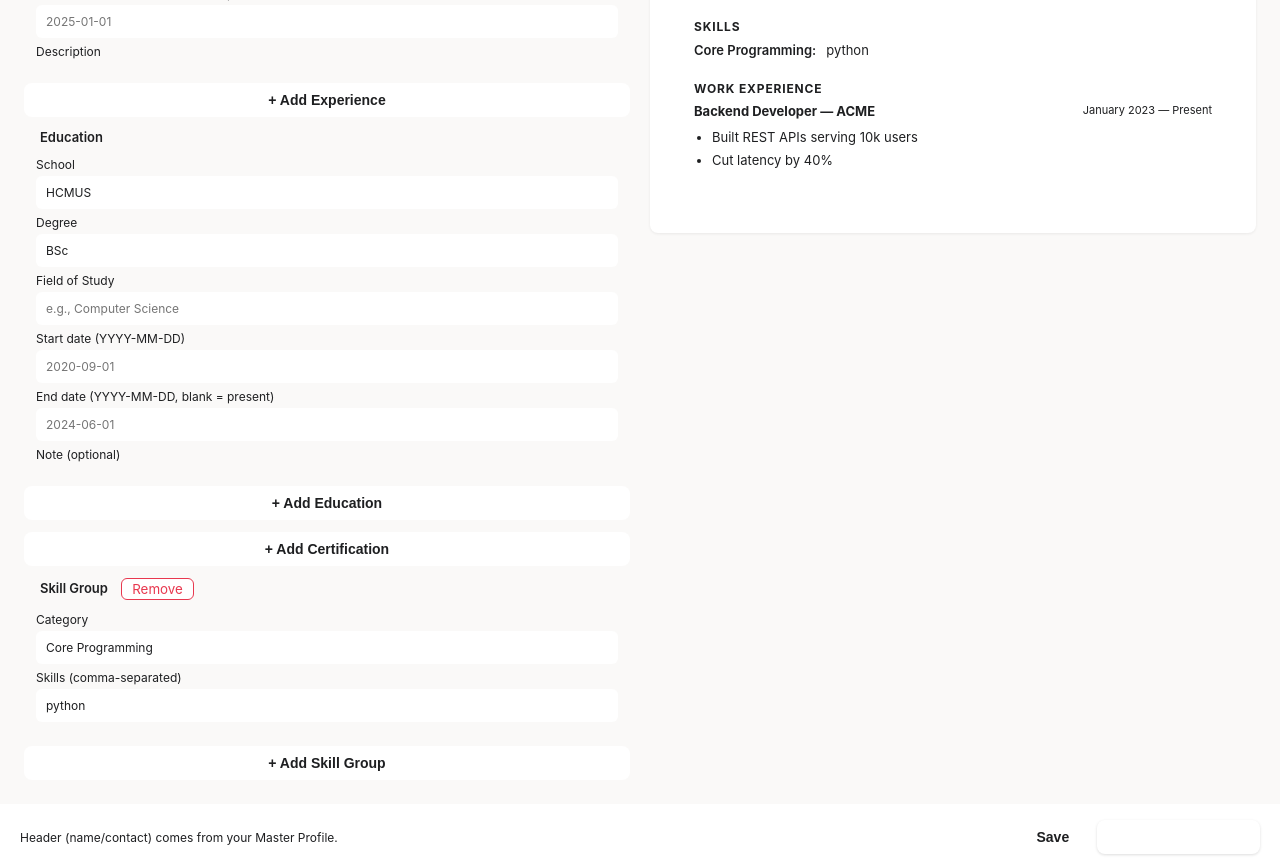
Test: CvEditor skill groups › adds and removes groups
This screenshot has width=1280, height=858.
(page scrolled)
Expected: the number of fields labelled "Category" is 1, [36,631,618,664]
Click the button "+ Add Skill Group" at (327, 763), box [24,746,630,780]
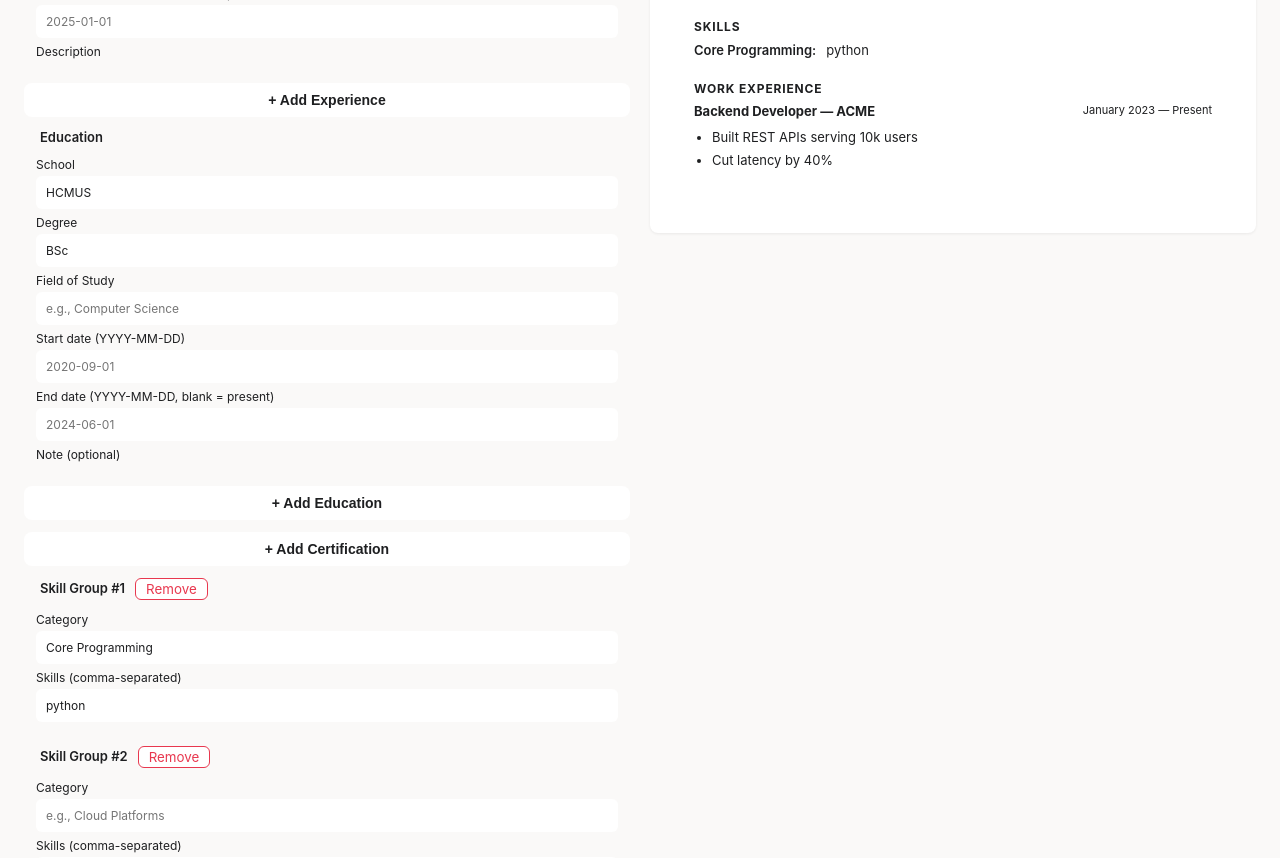
Now the number of fields labelled "Category" is 2, box [36,631,618,664]; [36,799,618,832]
Click the button with aria-label "Remove skill group #2" at (174, 757), box [138,746,210,768]
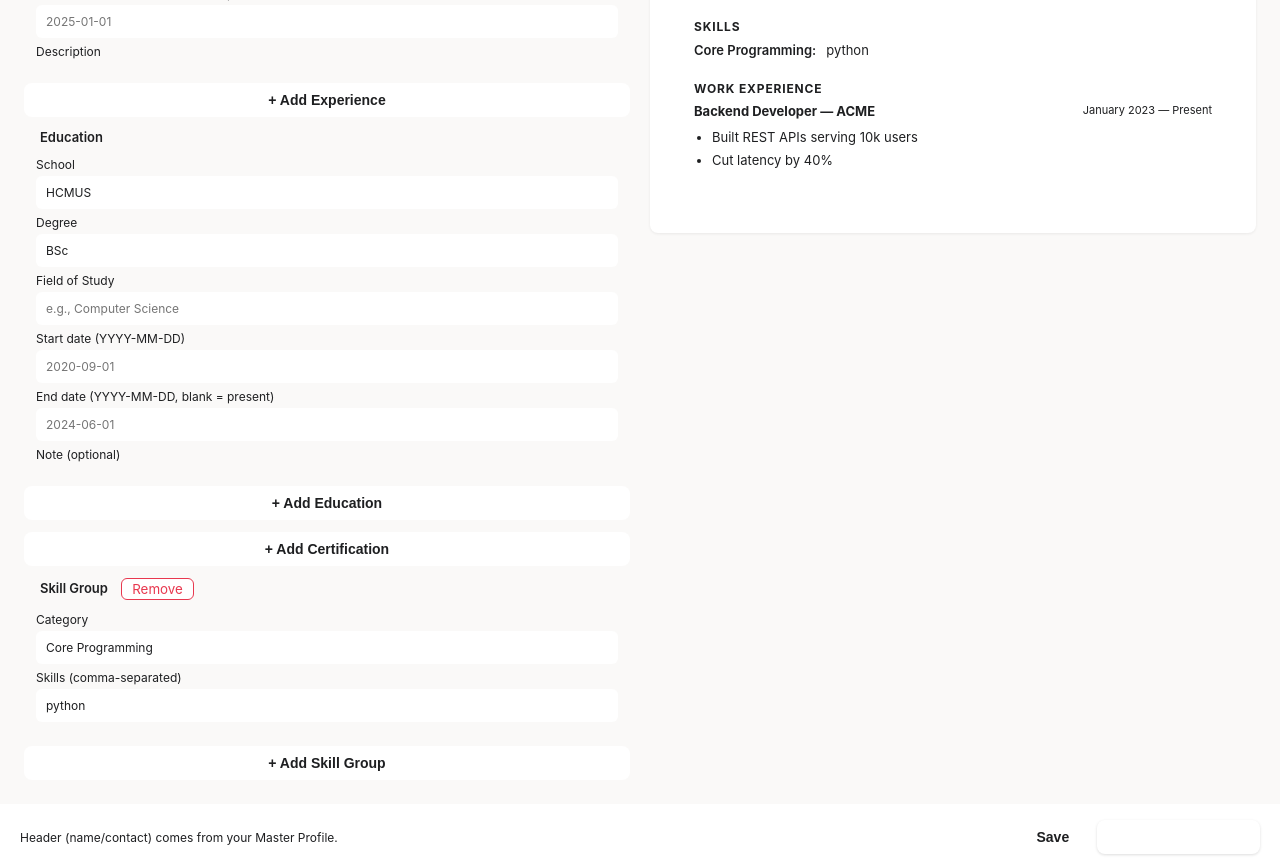
Expected: the number of fields labelled "Category" is 1, [36,631,618,664]
Unlike certifications, the last group can also be removed.
Click the button with aria-label "Remove skill group #1" at (158, 589), box [121,578,194,600]
(page scrolled)
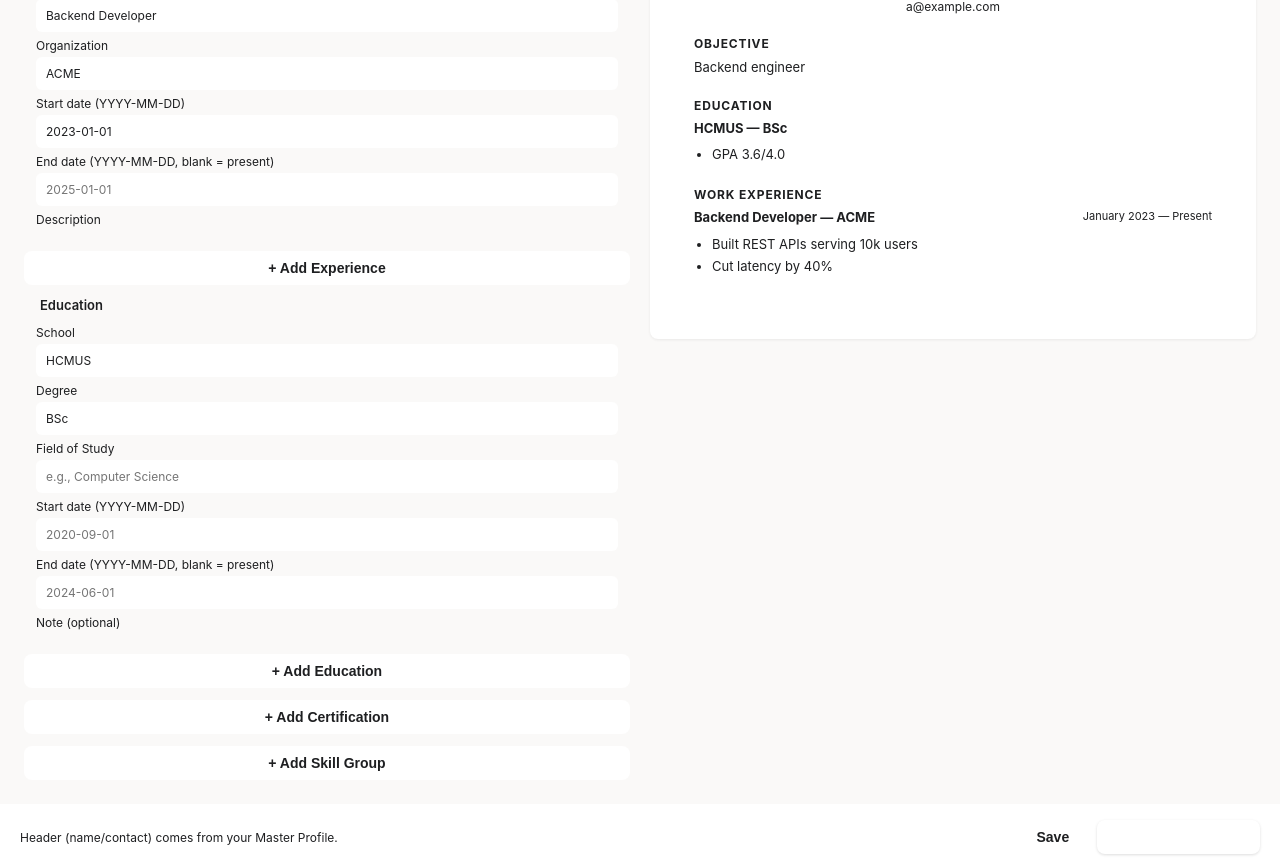
Now the label labelled "Category" is gone
